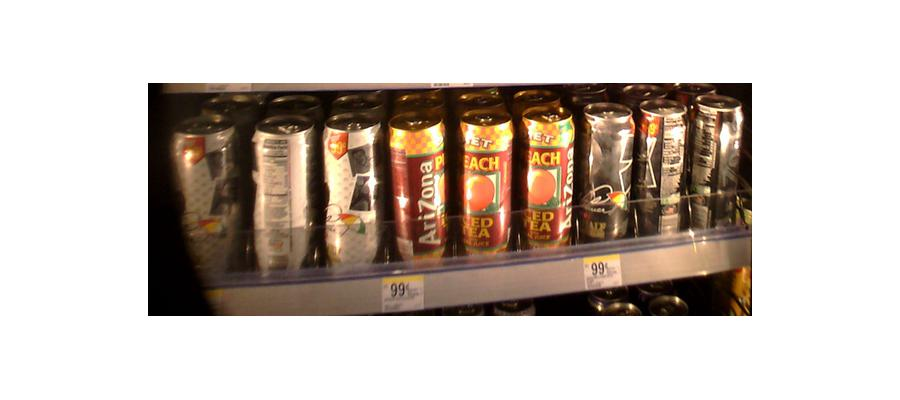bottle: (175, 119, 243, 280), (250, 116, 315, 278), (320, 111, 383, 271), (387, 108, 450, 266), (456, 109, 513, 255), (518, 105, 574, 248), (580, 101, 633, 246), (690, 91, 742, 236), (635, 96, 686, 237)
